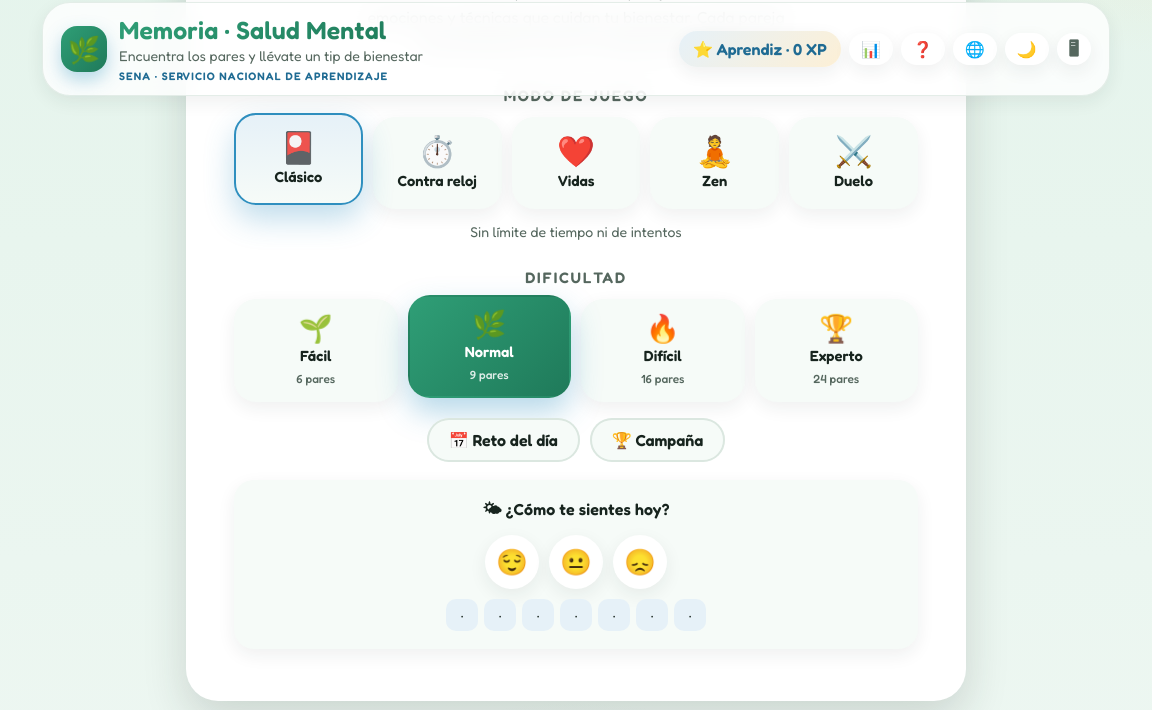
Test: juego de memoria › inicia con 12 cartas y 6 pares distintos
(page scrolled)
Click the button with aria-label "Fácil · 6 pares" at {"x": 316, "y": 350}, box [234,299,398,402]
(page scrolled)
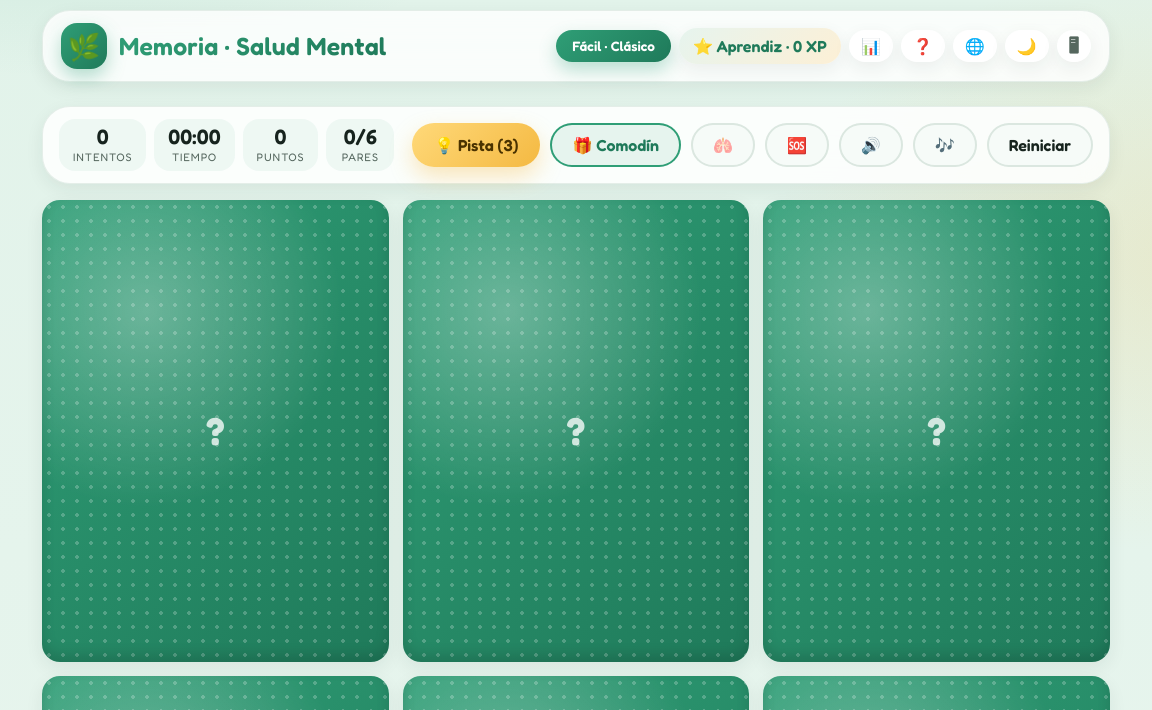
Check: the text "0/6" is shown, box [344,124,377,149]
